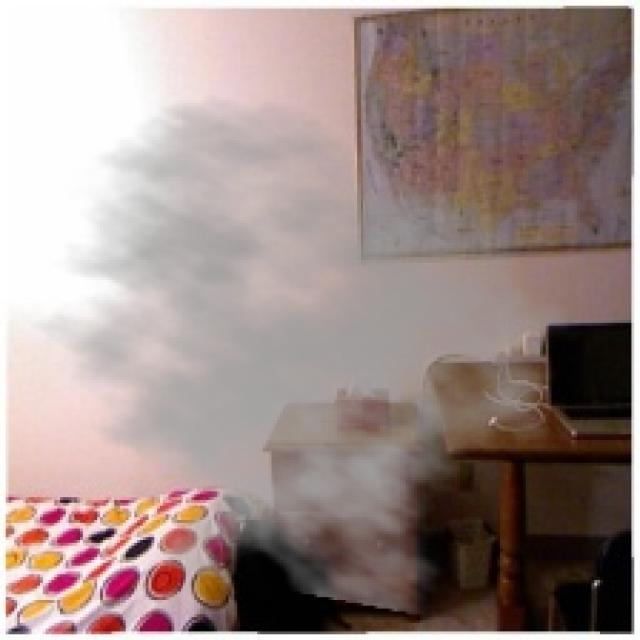smoke: (12, 94, 574, 617)
